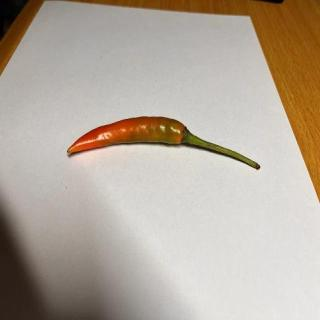Cabai Merah: (66, 115, 262, 172)
